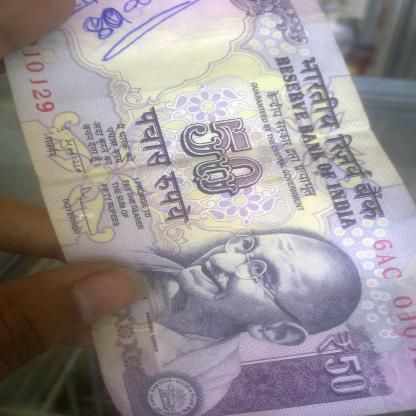Old50Front: (3, 0, 415, 415)
